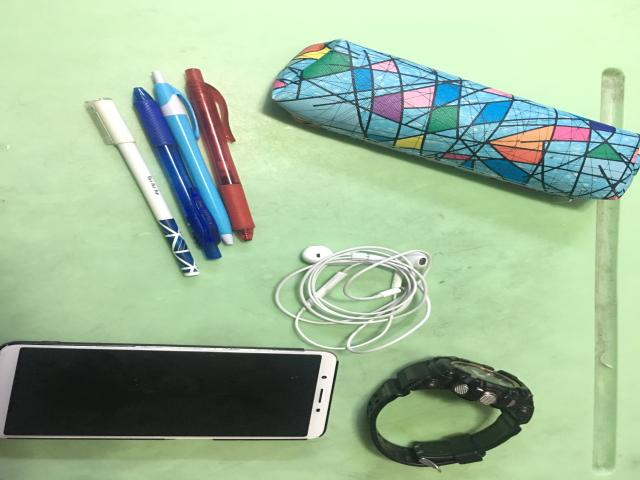Mobile phone: (0, 341, 337, 440)
Pen: (84, 69, 255, 278)
Watch: (367, 356, 533, 470)
wire: (275, 246, 432, 353)
